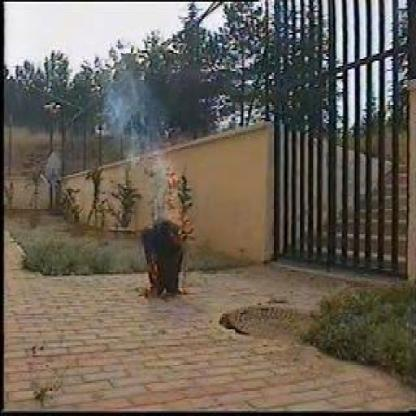-: (104, 75, 169, 221)
foggia-v2-map80-epoch100 - v1 4323: (168, 167, 194, 237)
